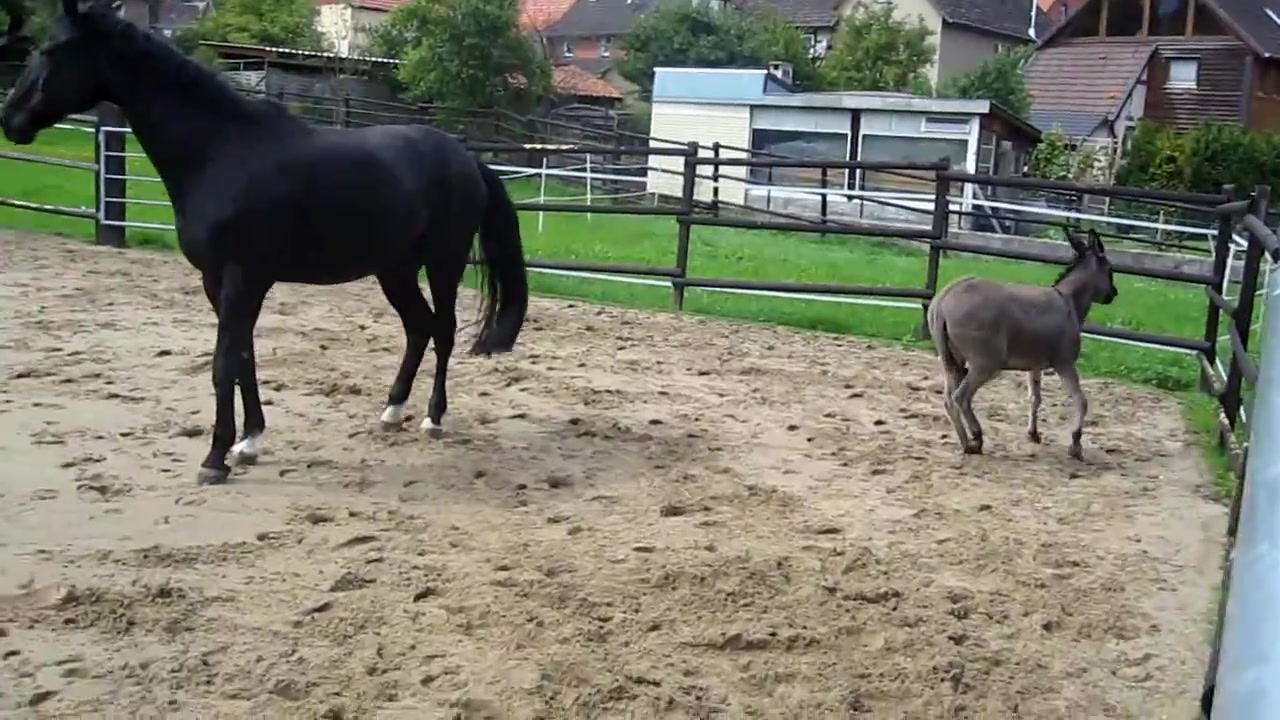horse: (2, 3, 530, 487)
